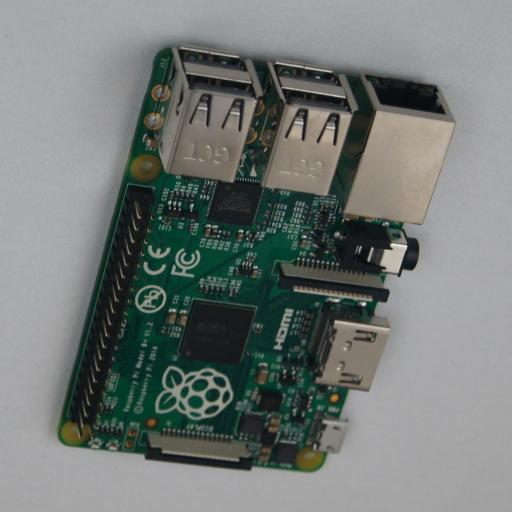Raspberry Pi 1 B-: (57, 43, 446, 472)
